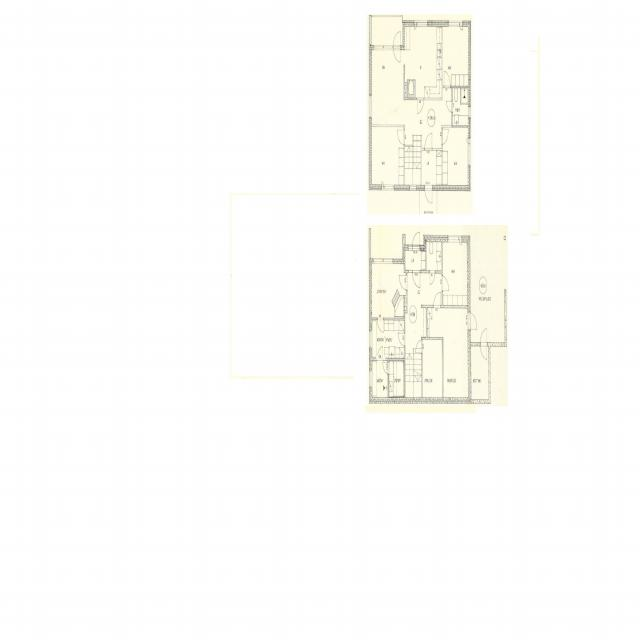door: (412, 228, 420, 251), (425, 184, 432, 207), (468, 314, 478, 329), (413, 270, 420, 290), (394, 29, 400, 50), (425, 132, 432, 150), (394, 44, 400, 64), (397, 130, 405, 144), (481, 342, 487, 360), (434, 290, 440, 308), (442, 276, 449, 291), (442, 129, 449, 144), (398, 333, 406, 346), (481, 329, 487, 346), (400, 276, 407, 290), (444, 72, 450, 88), (378, 317, 383, 333), (418, 98, 423, 114), (416, 341, 422, 354), (430, 270, 435, 284), (383, 362, 389, 373), (378, 346, 382, 361), (447, 101, 452, 112)
